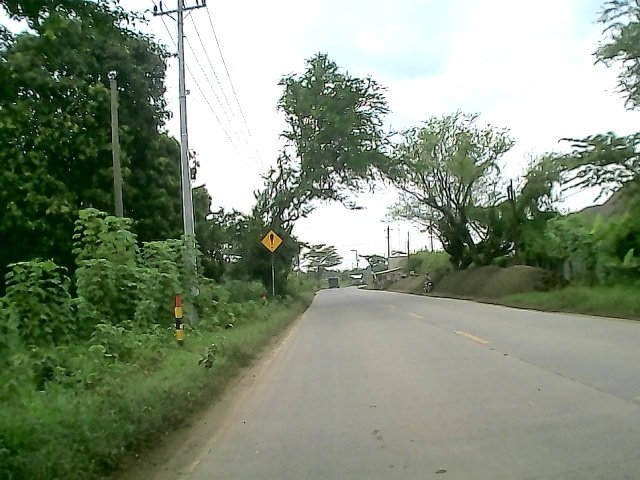Hati-hati: (261, 228, 283, 254)
